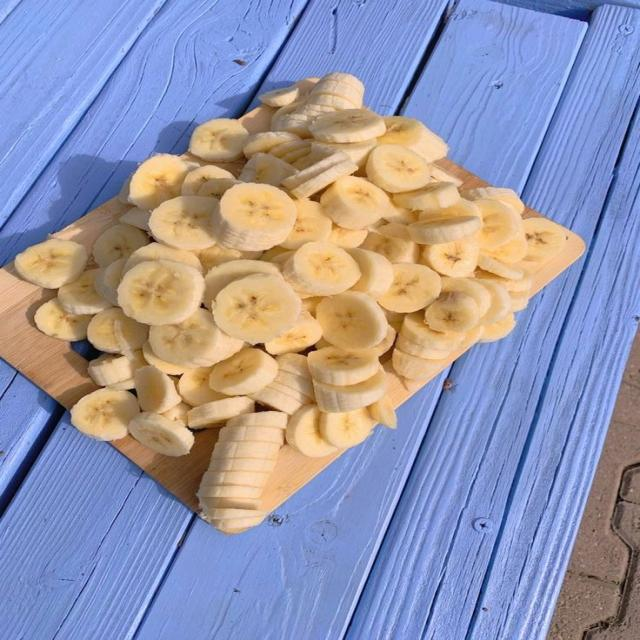banana slice: (214, 274, 301, 344), (118, 260, 204, 325), (149, 309, 244, 367), (214, 183, 296, 250), (316, 291, 387, 349), (283, 242, 360, 295), (150, 196, 219, 250), (320, 176, 390, 229), (203, 260, 279, 308), (128, 154, 191, 210), (71, 389, 139, 440), (283, 153, 358, 198), (209, 348, 278, 395), (378, 117, 448, 162), (201, 443, 271, 488), (367, 144, 431, 193), (379, 263, 441, 313), (314, 370, 386, 412), (129, 412, 194, 456), (120, 243, 202, 277), (87, 308, 147, 353), (307, 348, 379, 385), (265, 310, 322, 355), (287, 405, 336, 457), (283, 152, 350, 190), (310, 109, 386, 142), (189, 119, 248, 161), (400, 312, 465, 350), (34, 299, 92, 341), (58, 269, 112, 314), (93, 224, 149, 266), (474, 199, 520, 250), (360, 224, 419, 263), (348, 248, 393, 299), (425, 291, 480, 332), (422, 238, 479, 277), (134, 366, 181, 413), (200, 458, 276, 487), (320, 408, 374, 448), (407, 216, 482, 244), (88, 352, 145, 388), (468, 278, 512, 324), (188, 397, 254, 427), (442, 277, 491, 317), (251, 375, 314, 405), (178, 367, 226, 406), (523, 218, 566, 261), (394, 183, 460, 211), (281, 213, 332, 249), (239, 154, 295, 186), (312, 139, 376, 167), (142, 341, 194, 375), (197, 246, 262, 273), (392, 348, 446, 380), (462, 187, 525, 214), (254, 385, 310, 414), (180, 165, 234, 195), (94, 259, 127, 305), (243, 132, 299, 158), (307, 85, 362, 111), (313, 72, 364, 100), (396, 335, 451, 360), (486, 231, 528, 263), (270, 371, 314, 401), (419, 198, 480, 219), (219, 427, 284, 446), (476, 270, 532, 292), (205, 508, 266, 528), (479, 253, 524, 280), (213, 442, 279, 459), (479, 313, 515, 342), (273, 112, 313, 138), (227, 412, 288, 429), (200, 496, 260, 513), (269, 139, 311, 163), (327, 224, 368, 248), (198, 485, 263, 500), (367, 397, 397, 429), (197, 178, 242, 199), (384, 200, 419, 225), (277, 353, 310, 379), (259, 85, 299, 106), (371, 325, 396, 357), (119, 207, 150, 232), (430, 164, 463, 187), (291, 151, 329, 170), (162, 402, 190, 426), (294, 199, 326, 218), (460, 325, 484, 349), (270, 250, 293, 272), (384, 309, 406, 331), (260, 246, 290, 262), (118, 174, 133, 204), (508, 292, 529, 312)
